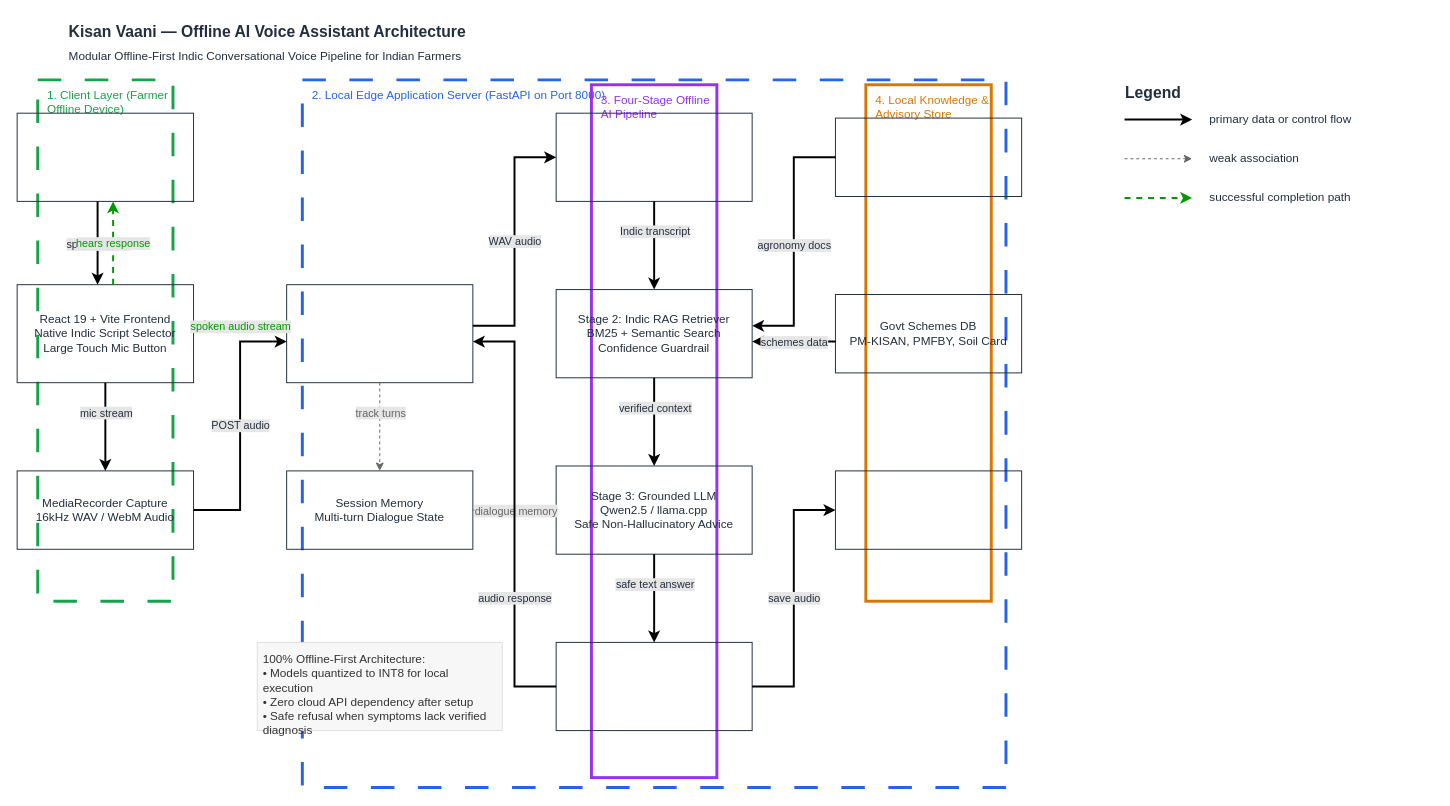
This 1450x806 diagram has some shape labels left out. The shapes that lost their labels are listed below. From the top down, each one's centre as x and y in pixels, then its label:
At pixel 105 156: "Indian Farmer (Kisan) Regional Voice Input".
At pixel 653 156: "Stage 1: ASR Engine faster-whisper (int8) Silero VAD + Indic Hints".
At pixel 928 156: "ICAR & KVK Advisory DB Crop Diseases, Pests & NPK".
At pixel 379 333: "FastAPI Gateway /api/voice/ask /api/languages, /api/status".
At pixel 928 509: "Audio Cache Store temp_audio/*.mp3 Cache".
At pixel 653 686: "Stage 4: Regional TTS edge-tts / pyttsx3 Fallback Local Indic Speech Synthesis".
